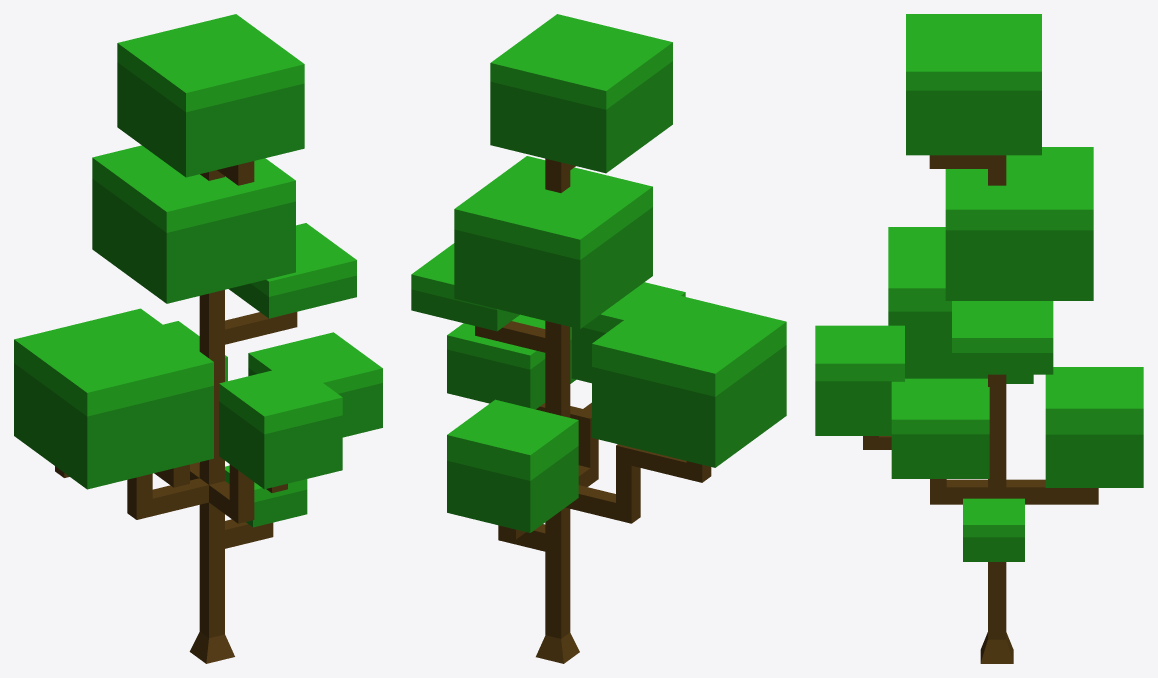
File: forest8.fbx
3 renders of one model, left to right at view 1: azimuth 30°, elevation 25°; view 2: azimuth 150°, elevation 25°; view 3: azimuth 270°, elevation 25°, orthographic. The views are drawn at different scales.
Parts seen in each view (by area): view 1: forest8; view 2: forest8; view 3: forest8.
Boxes of the visible parts, x1,y1,x2,y2 form: forest8: (14, 14, 382, 663); forest8: (411, 14, 786, 663); forest8: (815, 14, 1143, 663).
Size of the model in its own units: 1677 by 3248 by 1590.
1 material, 1 textured.
